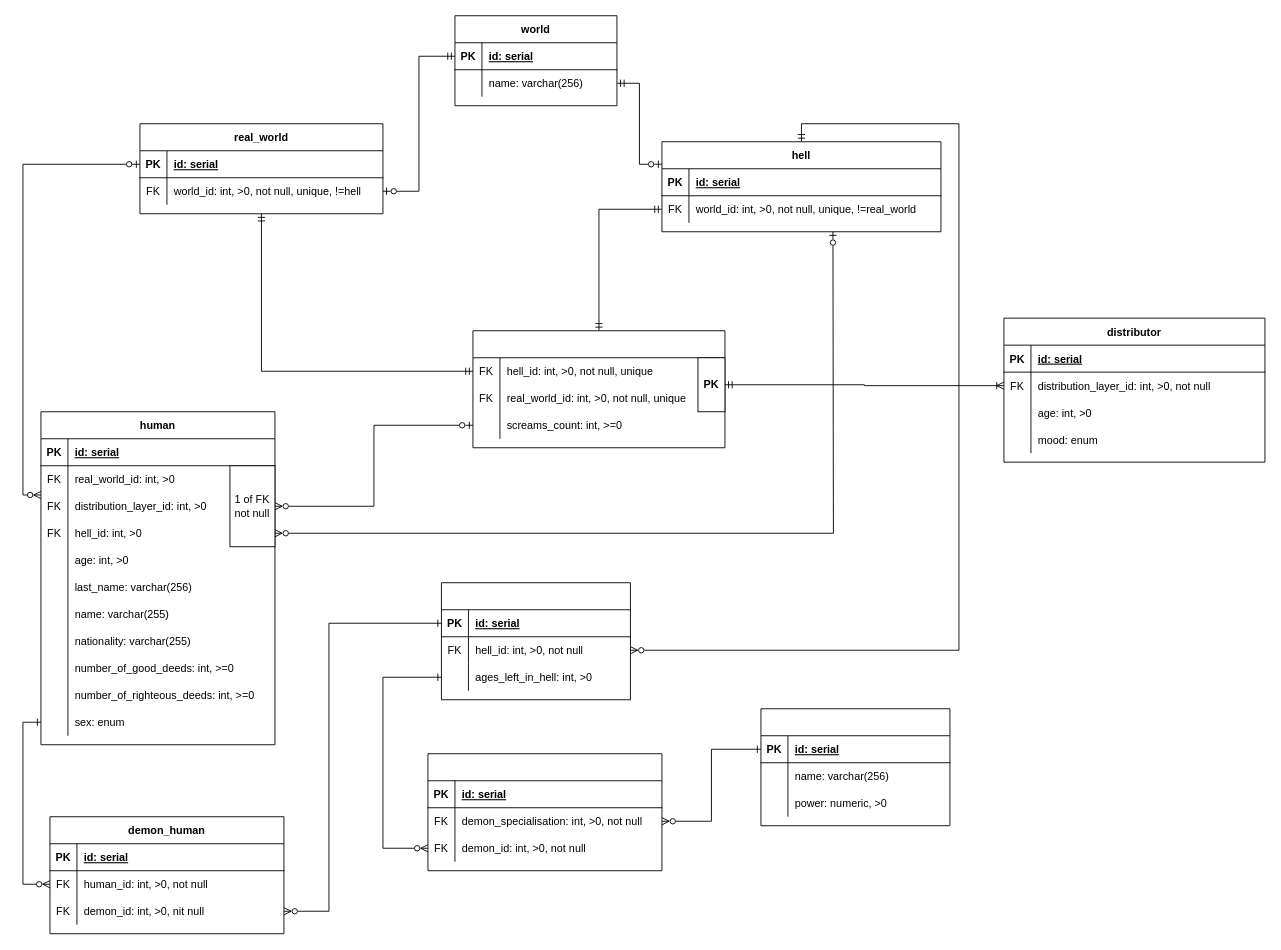
The diagram is 1281 pixels wide and 950 high, and some of its shapes have lost their labels. Here are the shapes that lost their labels. From the top down, the box of each, then its label:
(472, 330, 725, 448): distribution_layer
(441, 582, 630, 700): demon
(760, 708, 950, 826): demon_specialisation
(427, 753, 662, 871): demon_demon_specialisations
